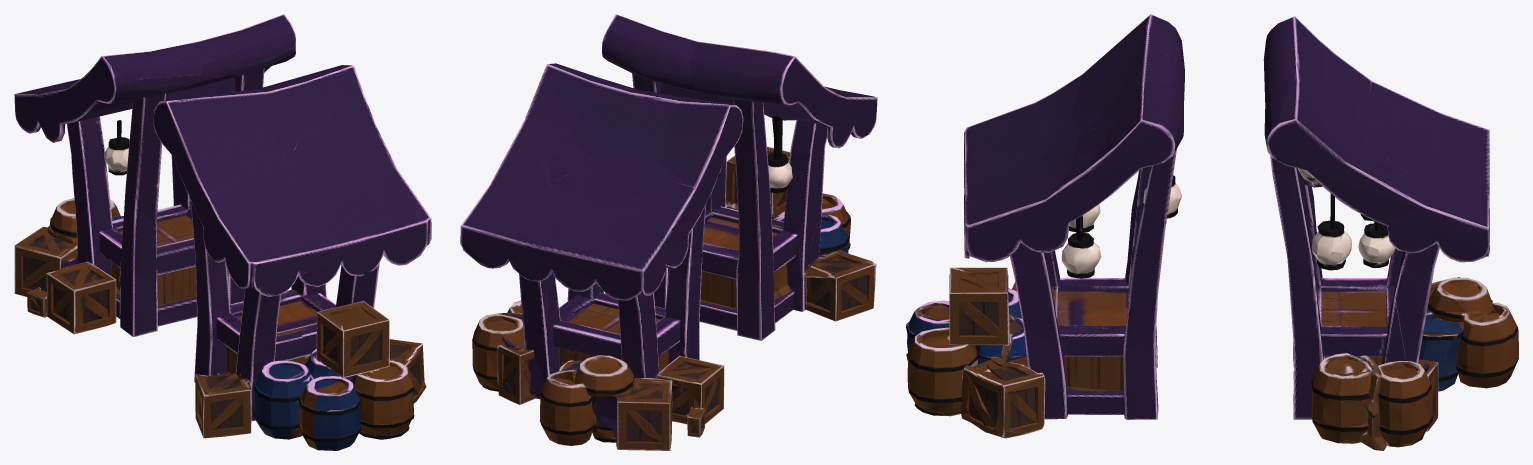
The model's file is dark-market-depths.glb.
3 renders of one model, left to right at view 1: azimuth 30°, elevation 25°; view 2: azimuth 150°, elevation 25°; view 3: azimuth 270°, elevation 25°, orthographic. The views are drawn at different scales.
Bounding box in the file's own units: 0.9252 × 1.11 × 1.9.
1 material, 1 textured.
